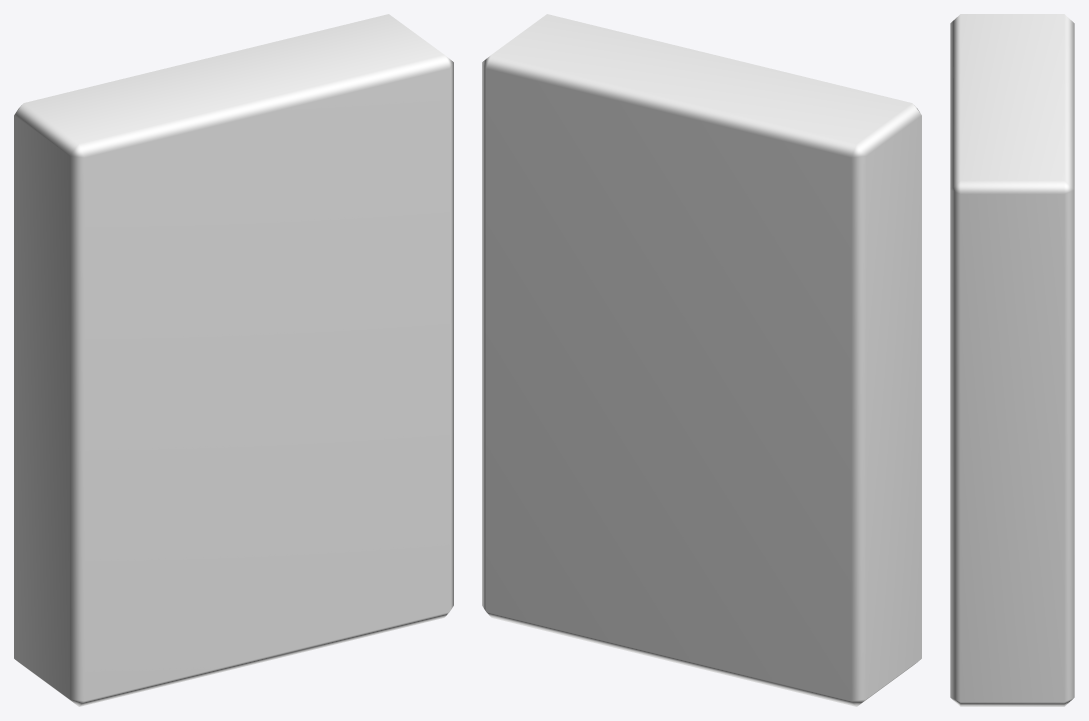
Rendered from chocolate.glb.
The picture shows the model from 3 angles, left to right: view 1: azimuth 30°, elevation 25°; view 2: azimuth 150°, elevation 25°; view 3: azimuth 270°, elevation 25°; orthographic projection. The views are drawn at different scales.
Visible parts, largest first — view 1: Chocolate; view 2: Chocolate; view 3: Chocolate.
Part boxes in pixels (x1=…): Chocolate: x1=14, y1=14, x2=453, y2=706; Chocolate: x1=482, y1=14, x2=921, y2=706; Chocolate: x1=950, y1=14, x2=1074, y2=706.
Size of the model in its own units: 0.1 by 0.14 by 0.03.
1 material, 1 textured.
